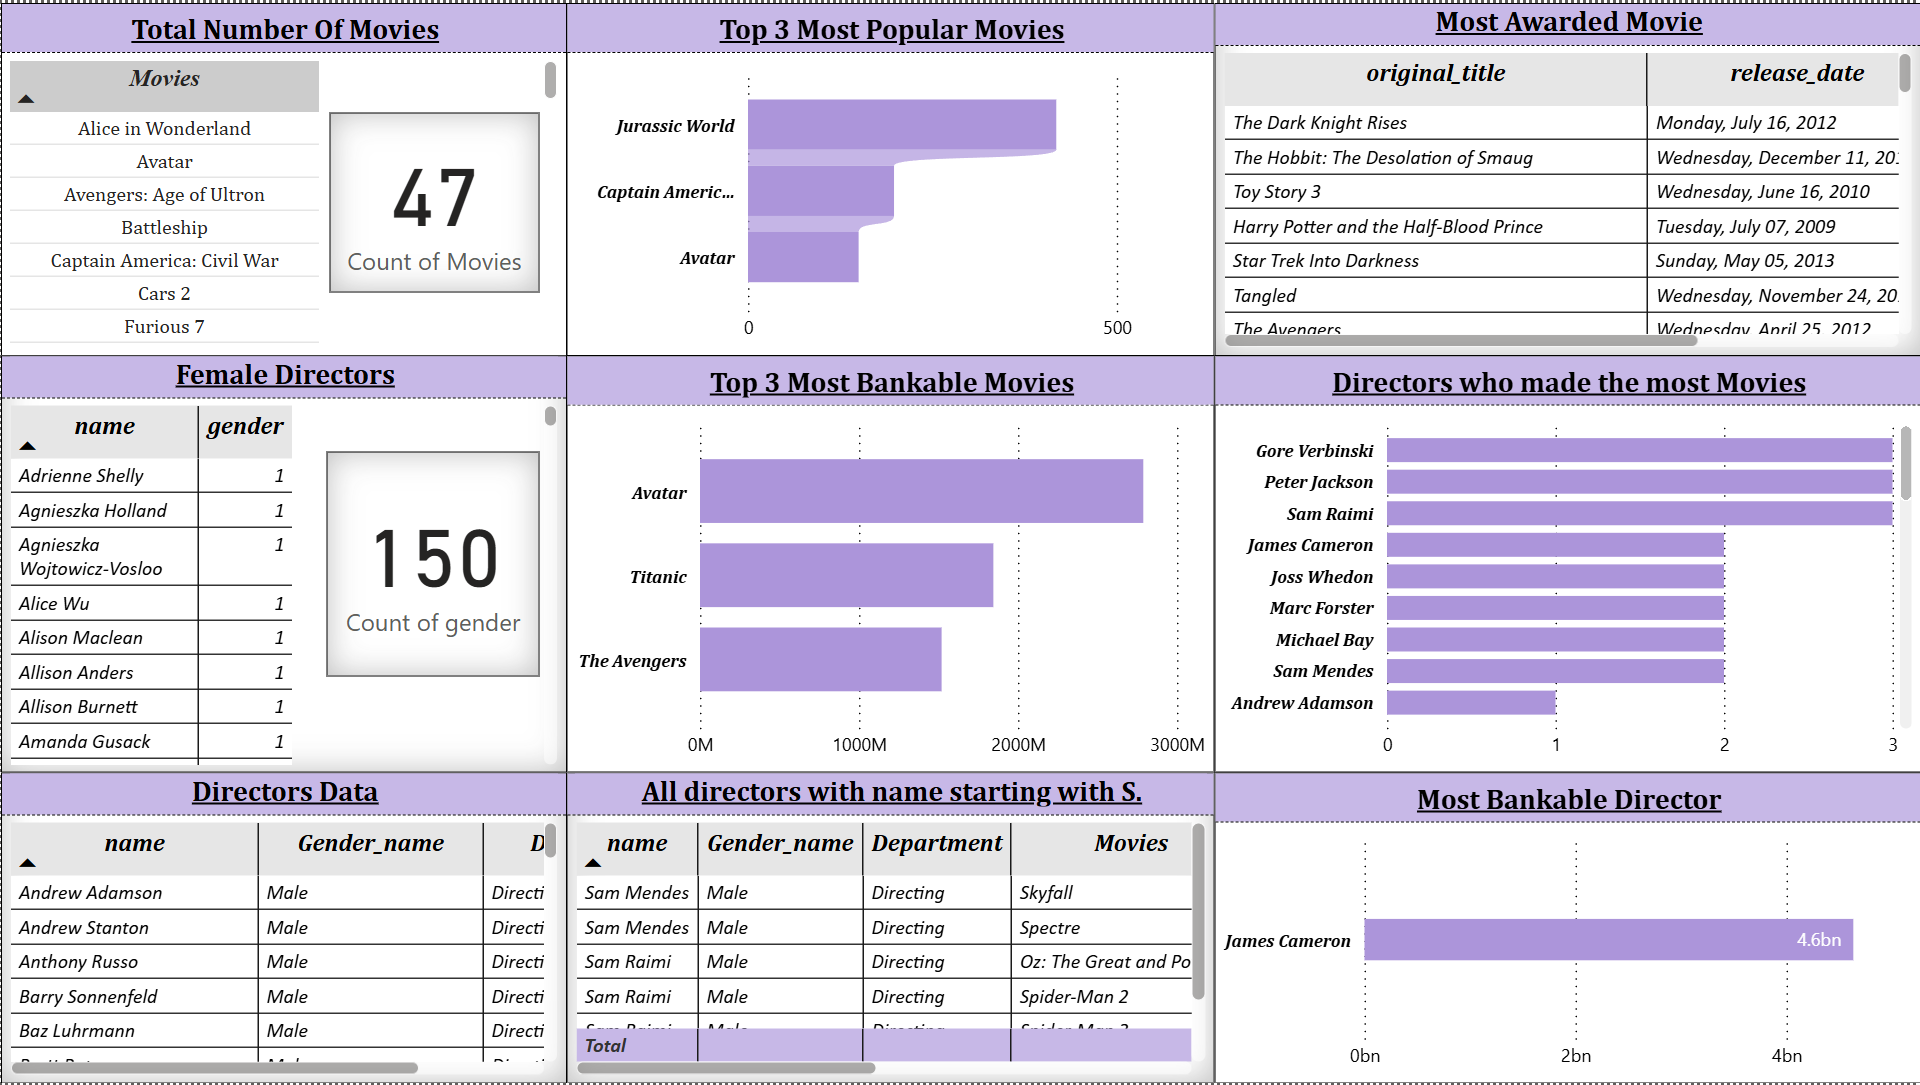

The page's visual inventory and layout, read from the dashboard file:
{"tool":"powerbi","page":{"name":"Dashboard","canvas":[1280,720],"ordinal":13},"visuals":[{"type":"pivotTable","title":"Total Number Of Movies","fields":{"Rows":["Merge1.Movies"]},"box":[0,0,377,235],"z":0},{"type":"card","fields":{"Values":["CountNonNull(Merge1.title)"]},"box":[219,73,140,120],"z":1000},{"type":"tableEx","title":"Female Directors","fields":{"Values":["project_movie_database directors.name","project_movie_database directors.gender"]},"box":[0,235,377,278],"z":2000},{"type":"card","fields":{"Values":["CountNonNull(project_movie_database directors.gender)"]},"box":[217,299,142,150],"z":3000},{"type":"barChart","title":"Top 3 Most Popular Movies","fields":{"Category":["project_movie_database movies.original_title"],"Y":["Sum(project_movie_database movies.popularity)"]},"box":[377,0,432,235],"z":4000},{"type":"clusteredBarChart","title":"Top 3 Most Bankable Movies","fields":{"Category":["Merge1.Movies"],"Y":["Sum(Merge1.revenue)"]},"box":[377,235,432,278],"z":5000},{"type":"tableEx","title":"Most Awarded Movie","fields":{"Values":["Merge1.original_title","Merge1.release_date","Sum(Merge1.vote_average)"]},"box":[809,0,471,235],"z":5001},{"type":"barChart","title":"Directors who made the most Movies","fields":{"Category":["Merge1.name"],"Y":["CountNonNull(Merge1.original_title)"]},"box":[809,235,471,278],"z":5002},{"type":"barChart","title":"Most Bankable Director","fields":{"Category":["Merge1.name"],"Y":["Sum(Merge1.revenue)"]},"box":[809,513,471,207],"z":5003},{"type":"tableEx","title":"All directors with name starting with S.","fields":{"Values":["Merge1.Name","Merge1.Gender_name","Merge1.Department","Merge1.Movies","Sum(Merge1.budget)","Sum(Merge1.revenue)","Sum(Merge1.vote_average)"]},"box":[377,513,432,207],"z":5004},{"type":"tableEx","title":"Directors Data","fields":{"Values":["Merge1.name","Merge1.GenderText","Merge1.department"]},"box":[0,513,377,207],"z":5005}]}

Visuals, with their boxes in screenshot pixels (x1, y1, x2, y2), scaled from the page's 1280x720 canvas onto the 1920x1085 screenshot:
"Total Number Of Movies" pivotTable: x1=0 y1=0 x2=566 y2=354
card - CountNonNull(Merge1.title): x1=328 y1=110 x2=538 y2=291
"Female Directors" tableEx: x1=0 y1=354 x2=566 y2=773
card - CountNonNull(project_movie_database directors.gender): x1=326 y1=451 x2=538 y2=677
"Top 3 Most Popular Movies" barChart: x1=566 y1=0 x2=1214 y2=354
"Top 3 Most Bankable Movies" clusteredBarChart: x1=566 y1=354 x2=1214 y2=773
"Most Awarded Movie" tableEx: x1=1214 y1=0 x2=1919 y2=354
"Directors who made the most Movies" barChart: x1=1214 y1=354 x2=1919 y2=773
"Most Bankable Director" barChart: x1=1214 y1=773 x2=1919 y2=1084
"All directors with name starting with S." tableEx: x1=566 y1=773 x2=1214 y2=1084
"Directors Data" tableEx: x1=0 y1=773 x2=566 y2=1084
